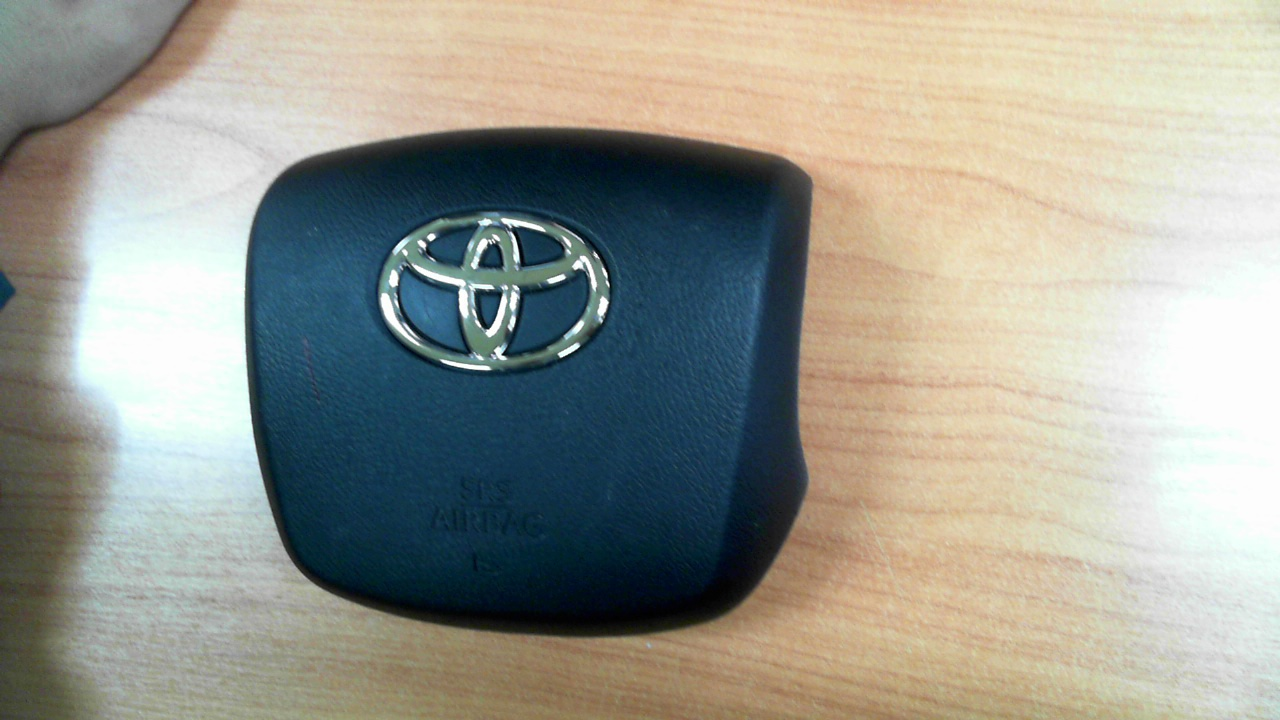Airbag: (242, 127, 814, 640)
Toyota: (377, 211, 611, 372)
